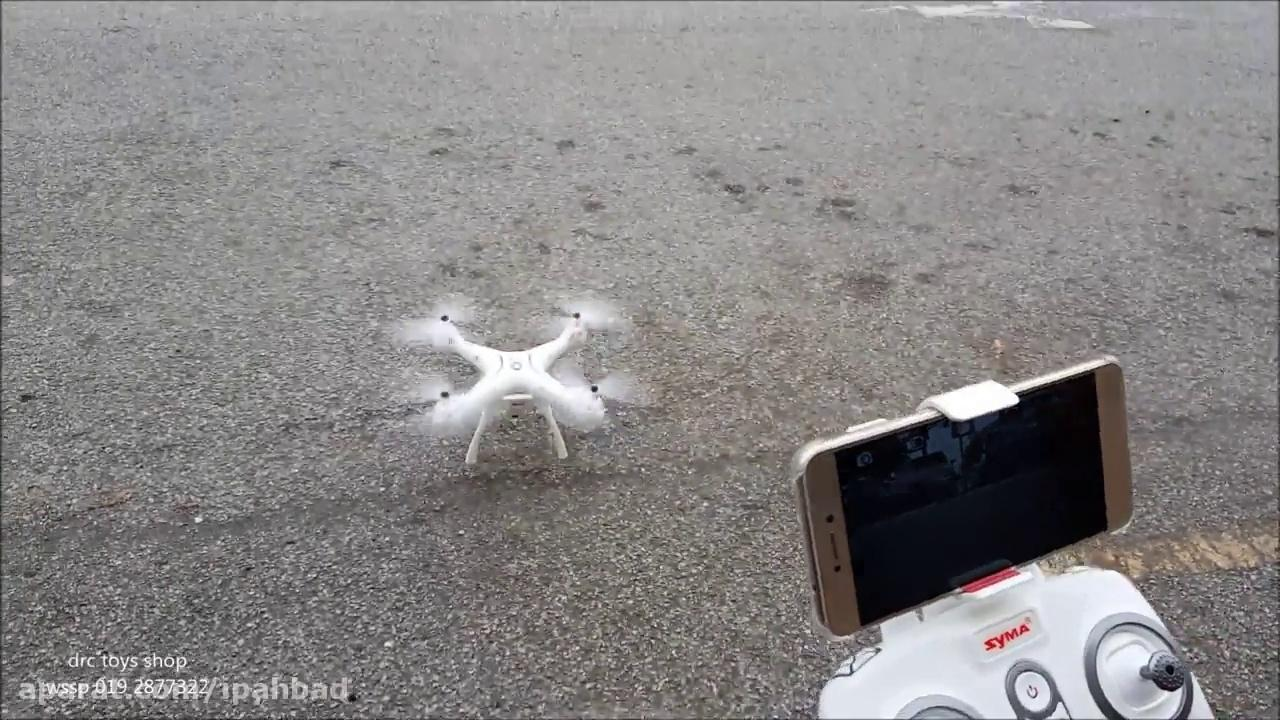drone: (384, 290, 665, 471)
